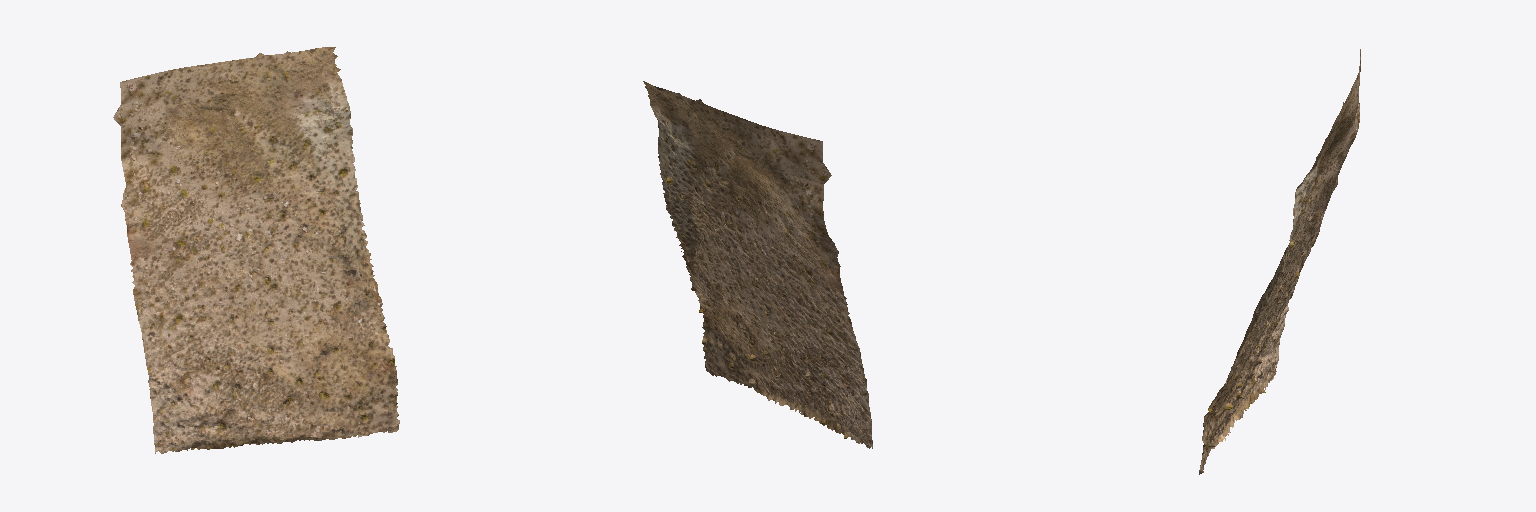
3 views of the same model, side by side, from view 1: azimuth 30°, elevation 25°; view 2: azimuth 150°, elevation 25°; view 3: azimuth 270°, elevation 25° (orthographic).
Bounding box in the file's own units: 0.9739 × 1.54 × 0.6591.
1 materials, 1 textured.